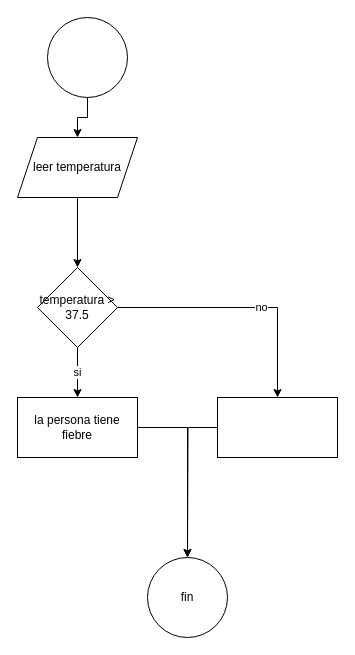
Image size: 355x655. Some labels were removed from this diagram. Here are the shapes that lost their labels. From the top down, the centre of each, then its label:
At point 87,57: "inicio".
At point 277,427: "la persona no tiene fiebre".
